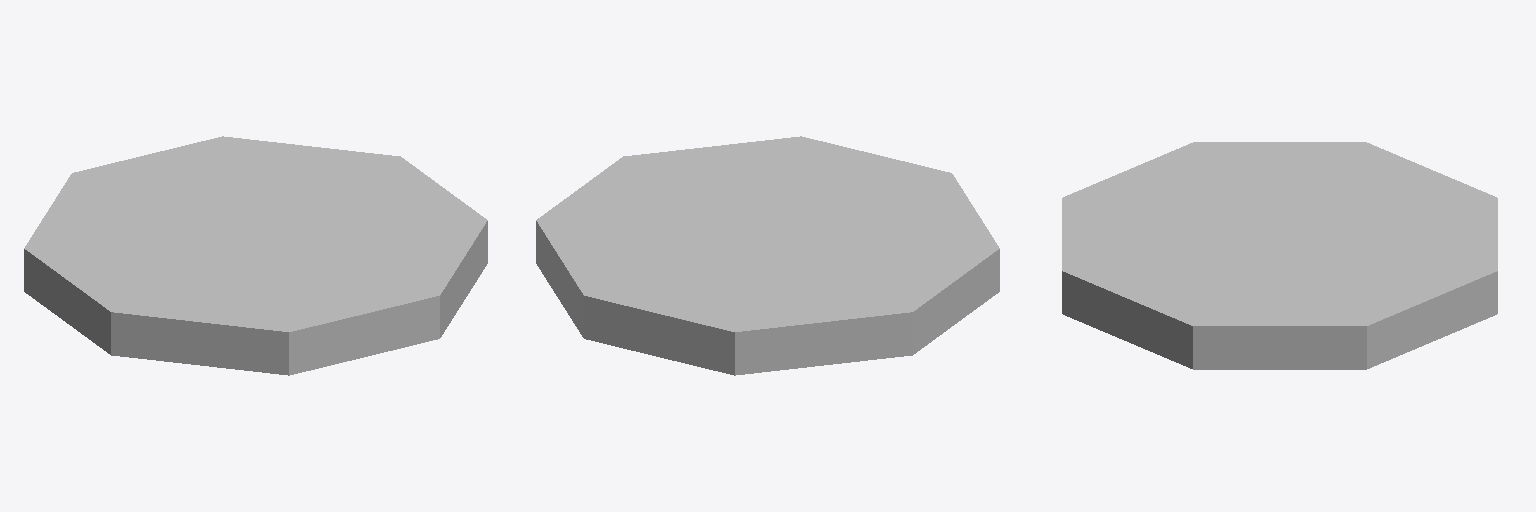
Rendered from airPadBB.obj.
3 views of the same model, side by side, from view 1: azimuth 30°, elevation 25°; view 2: azimuth 150°, elevation 25°; view 3: azimuth 270°, elevation 25° (orthographic).
Bounding box in the file's own units: 23.57 × 2.59 × 23.57.